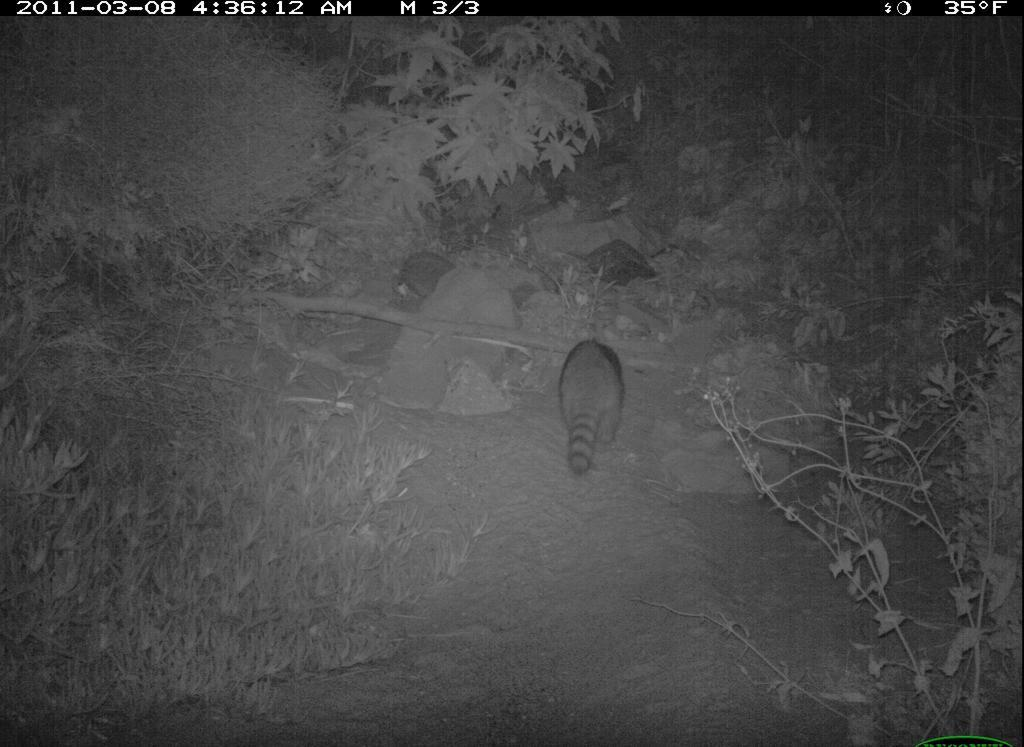raccoon: (528, 329, 644, 482)
